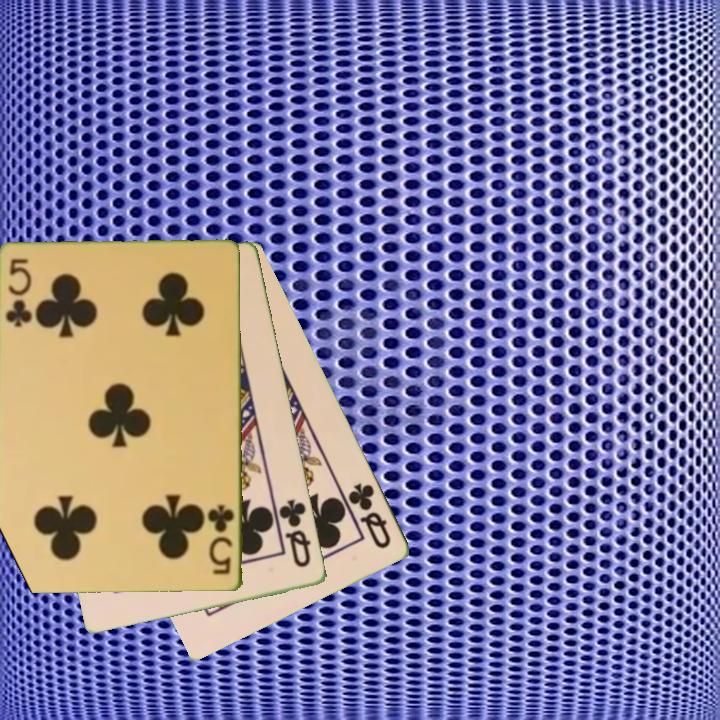5c: (205, 502, 238, 578), (2, 255, 31, 330)
Qc: (345, 479, 395, 552), (275, 495, 315, 571)
